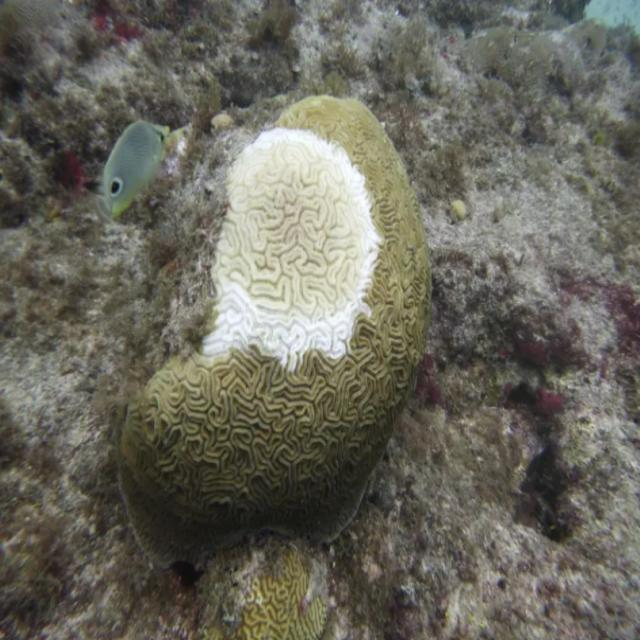Coral: (118, 95, 434, 568), (196, 536, 331, 640)
